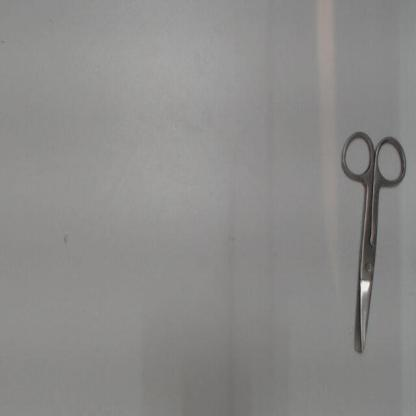Dressing Scissors: (335, 118, 411, 368)
